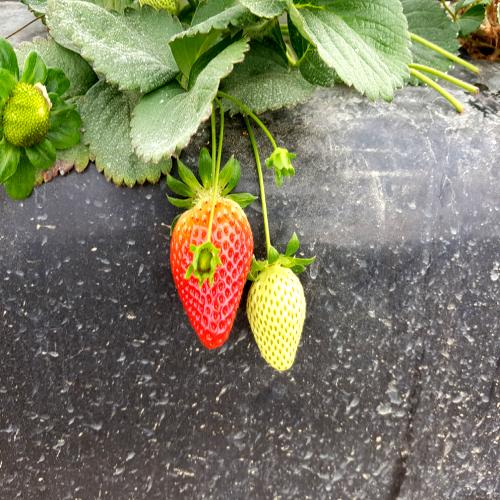ripe: (175, 184, 245, 343)
unripe: (242, 262, 309, 368)
